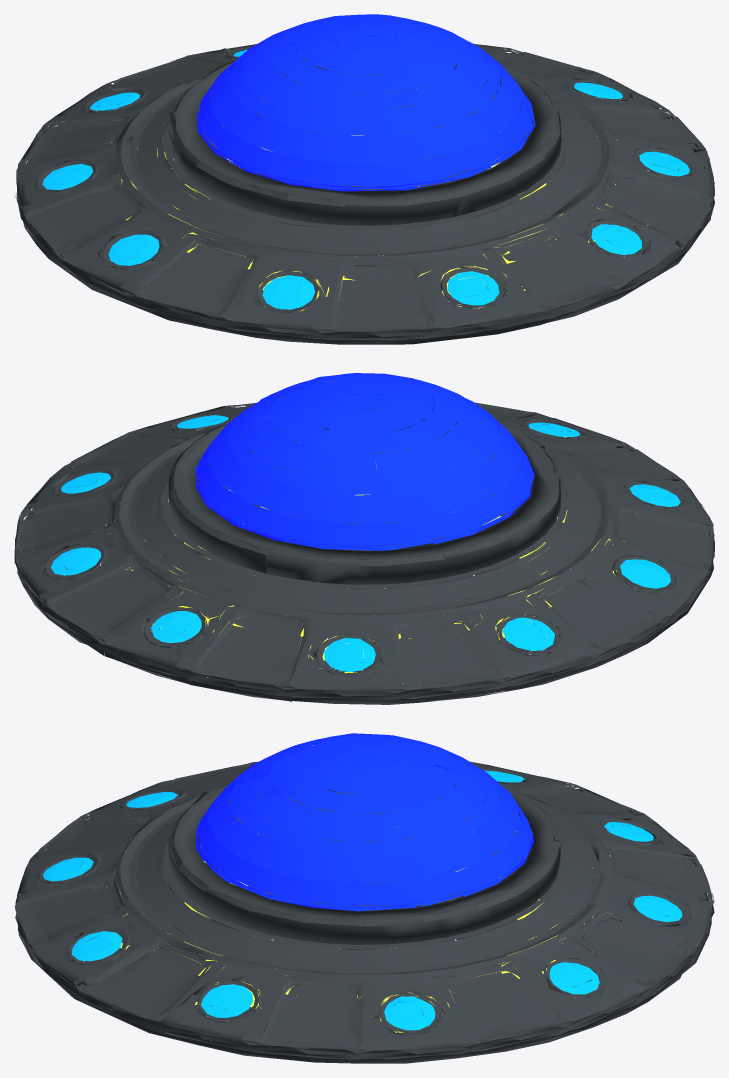
File: ufo_collectible.glb
3 views of the same model, one above another, from view 1: azimuth 30°, elevation 25°; view 2: azimuth 150°, elevation 25°; view 3: azimuth 270°, elevation 25° (orthographic).
Visible parts, largest first — view 1: ufo_collectible; view 2: ufo_collectible; view 3: ufo_collectible.
Boxes of the visible parts, x1,y1,x2,y2 form: ufo_collectible: (15, 14, 714, 344); ufo_collectible: (14, 373, 714, 704); ufo_collectible: (15, 733, 714, 1063).
Bounding box in the file's own units: 10.01 × 3.22 × 10.02.
